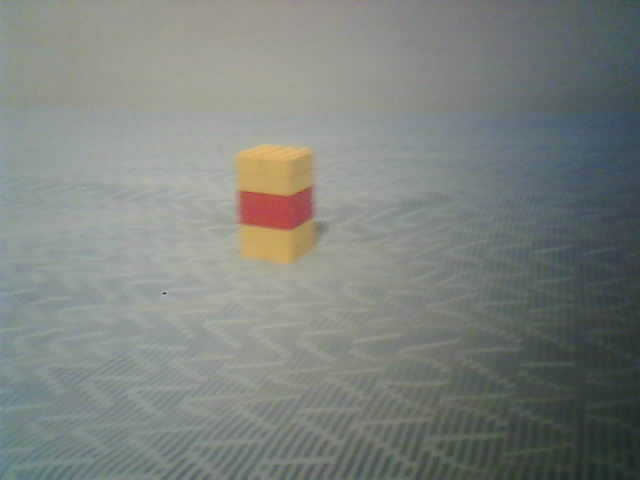lego: (233, 144, 314, 266)
